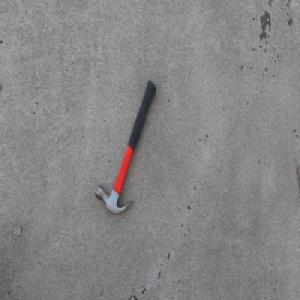Hammer: (94, 78, 156, 214)
